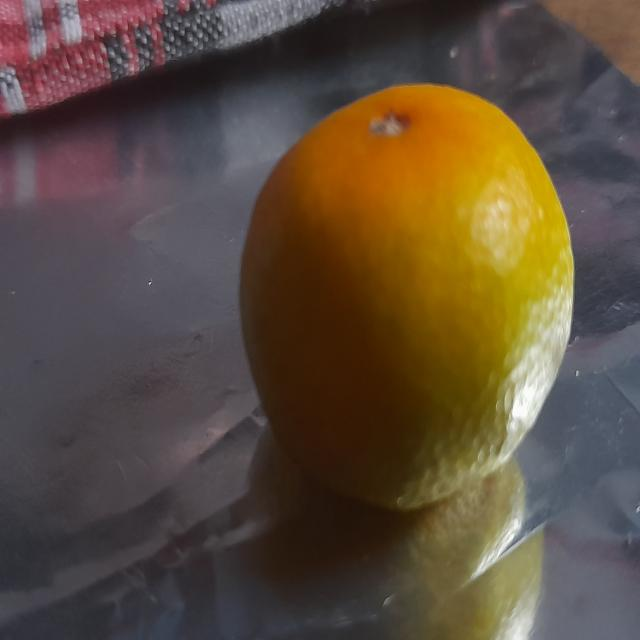greening: (238, 84, 578, 519)
